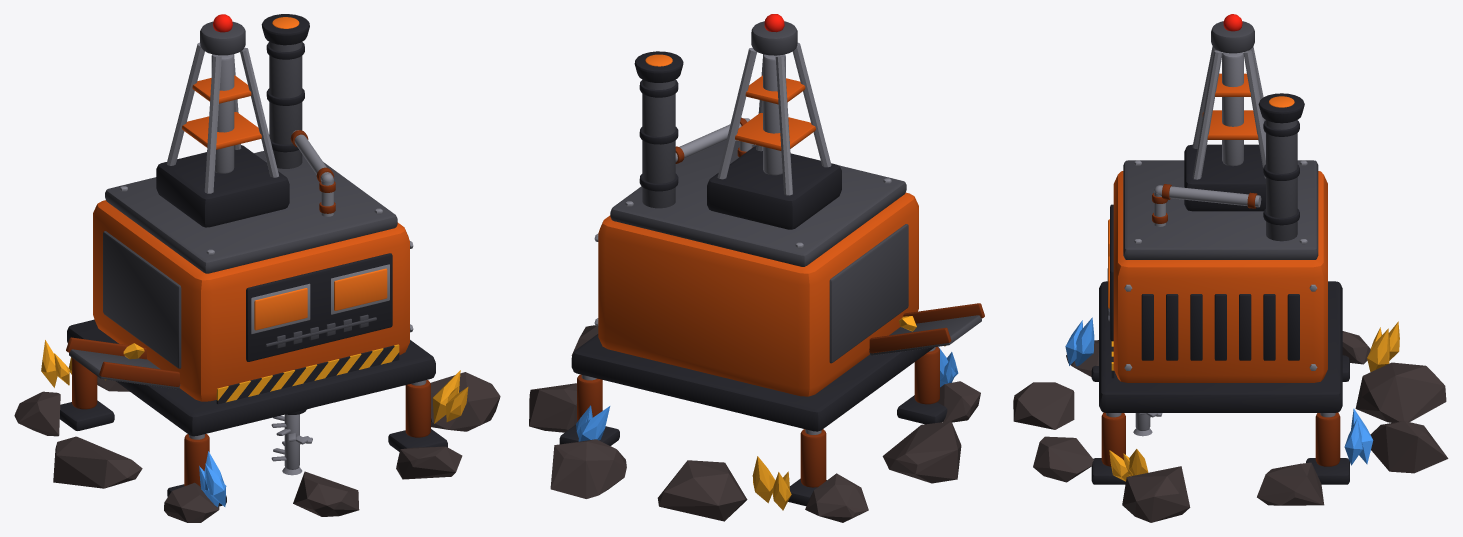
Rendered from Miner.obj.
3 views of the same model, side by side, from view 1: azimuth 30°, elevation 25°; view 2: azimuth 150°, elevation 25°; view 3: azimuth 270°, elevation 25° (orthographic). The views are drawn at different scales.
Visible parts, largest first — view 1: Miner; view 2: Miner; view 3: Miner.
Part boxes in pixels (bbox=[...]): Miner: bbox=[14, 14, 500, 522]; Miner: bbox=[529, 14, 984, 522]; Miner: bbox=[1013, 14, 1448, 522].
Size of the model in its own units: 1.83 by 1.84 by 1.79.
